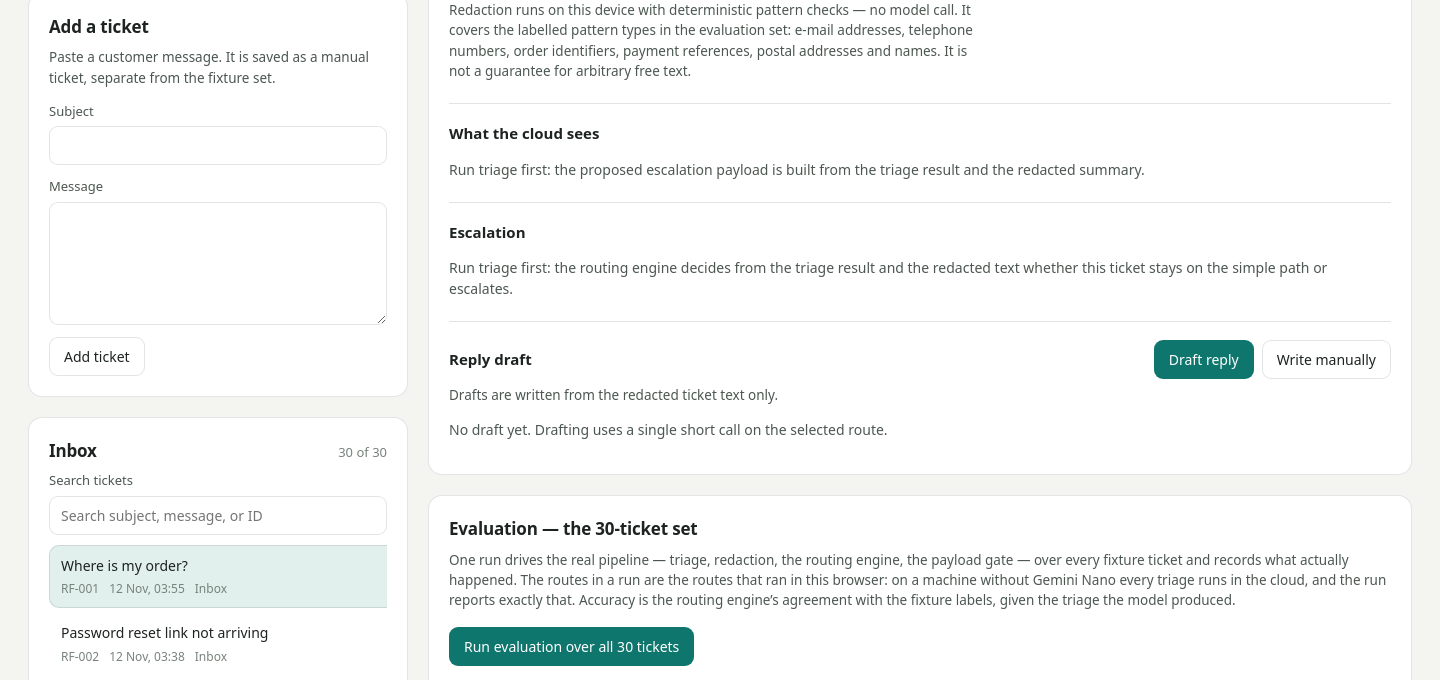
Test: App session-state integrity (T-2.8 W-2) › (d) Write manually after a simulated send returns the ticket to a non-sent state
(page scrolled)
Click the button "Draft reply". click: [1204, 360]
box: x1=1154 y1=340 x2=1254 y2=379
(page scrolled)
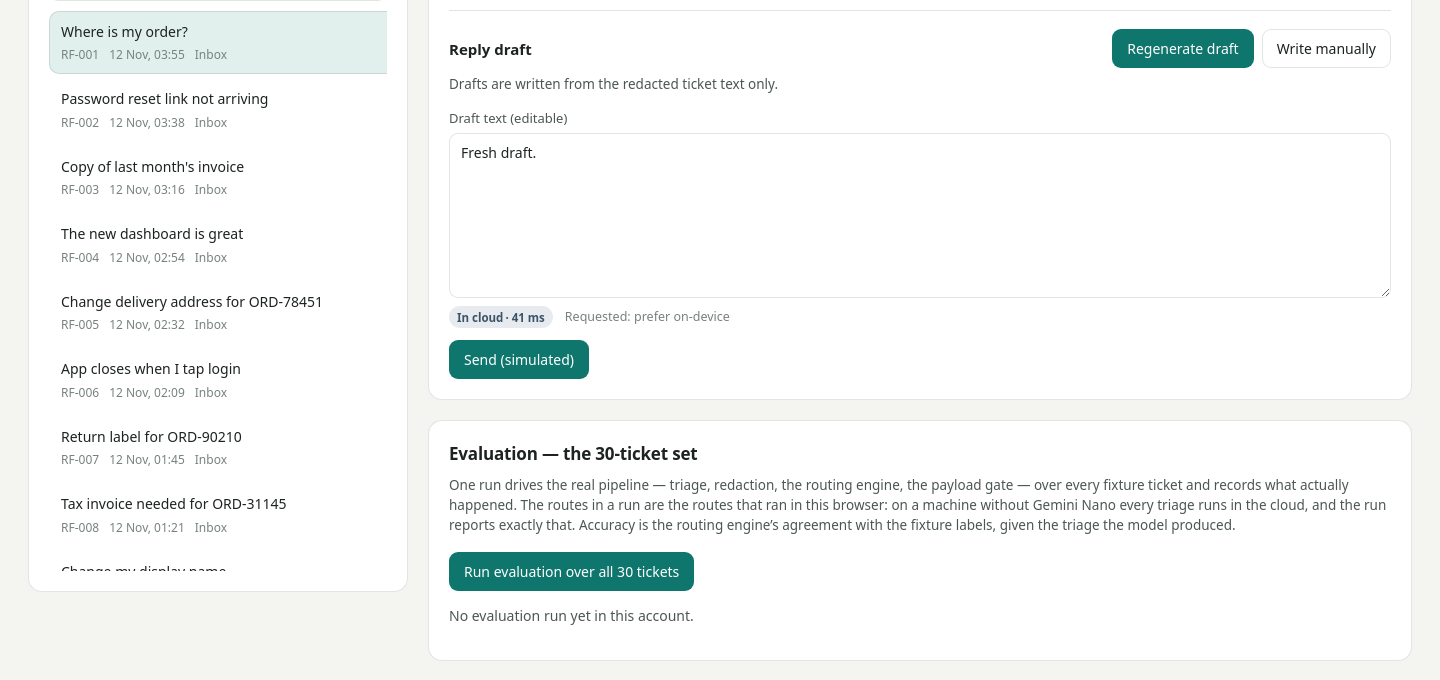
Click the button "Send (simulated)". click: [519, 360]
box: x1=449 y1=340 x2=589 y2=379
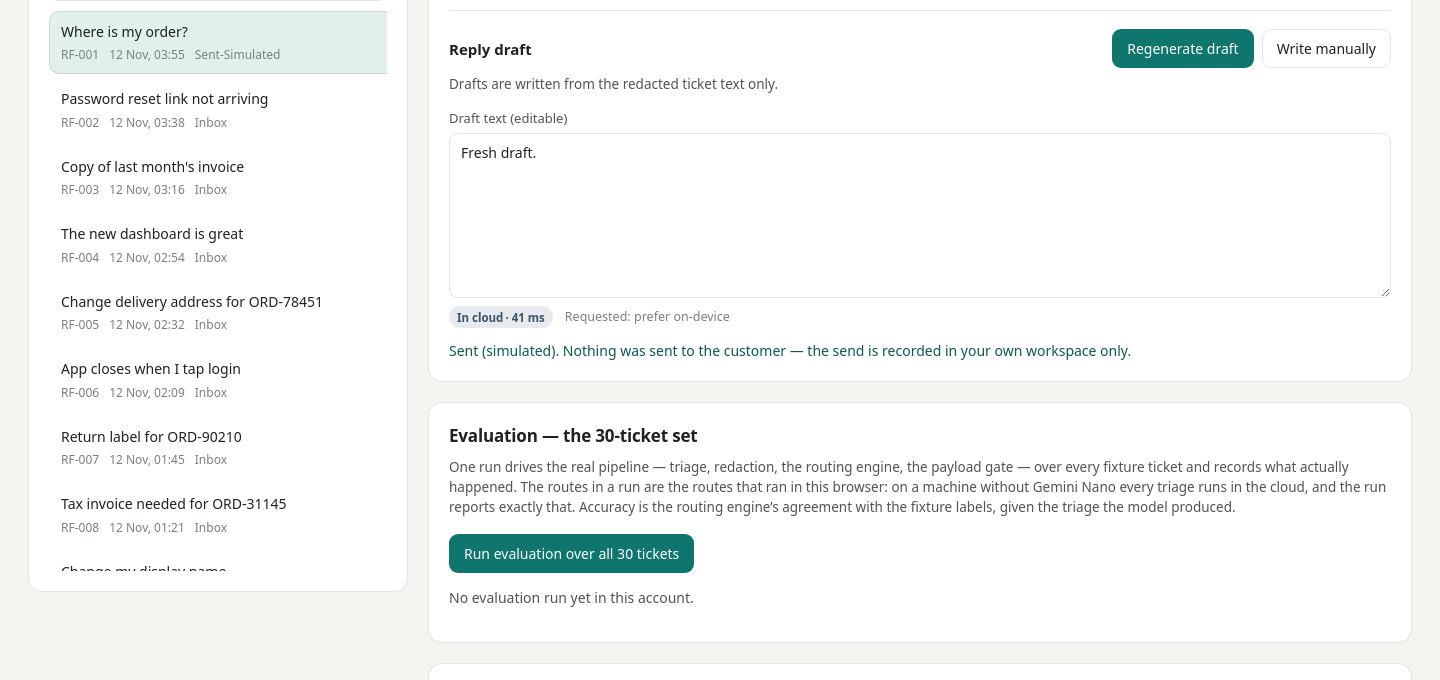
Click the button "Write manually". click: [1326, 49]
box: x1=1262 y1=29 x2=1391 y2=68
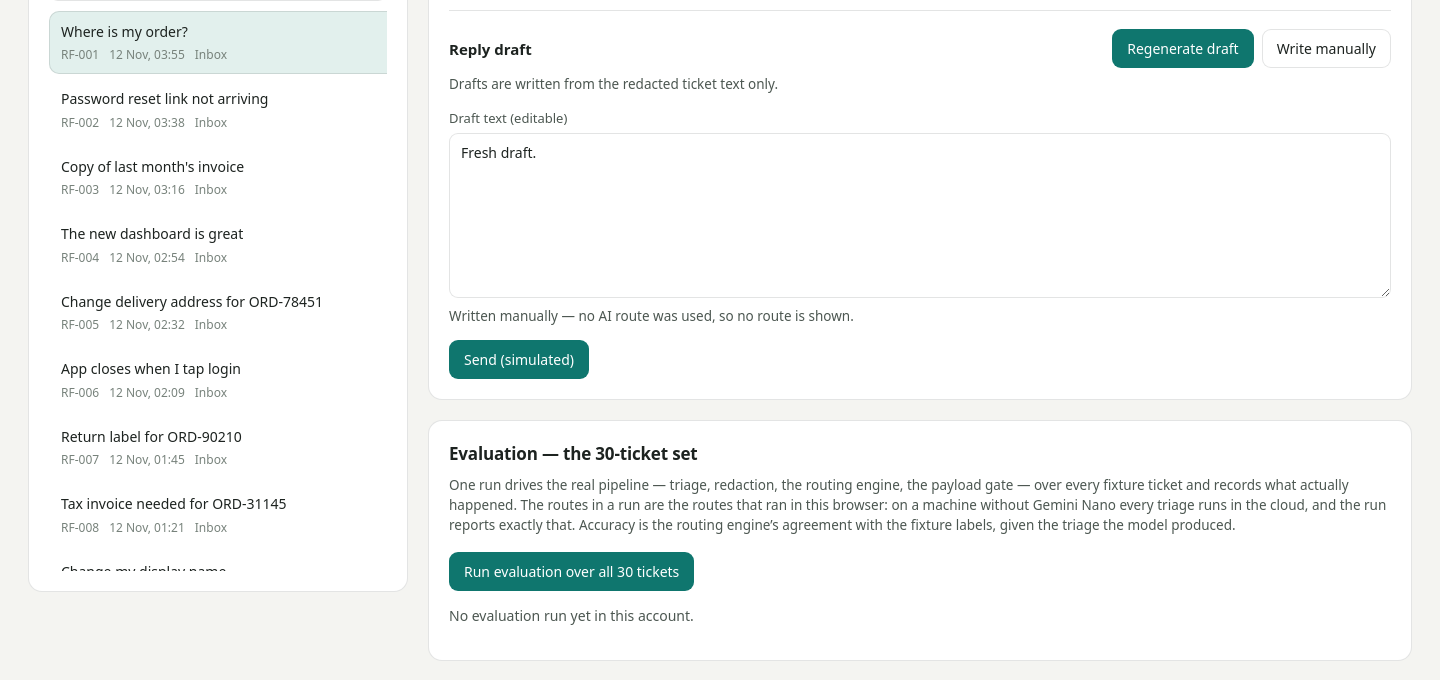
Expected: the text "Send (simulated)" is shown, x1=449 y1=340 x2=589 y2=379
